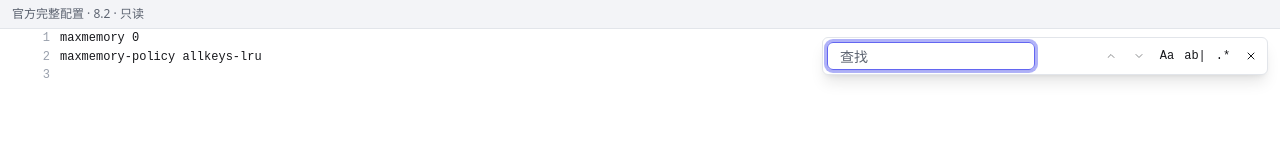
it: 关闭后焦点落到右栏滚动容器
Expected: the search field named "在官方配置中查找" is shown, [827,42,1035,70]
Click the button named "关闭查找": point(1251, 56) [1239,44,1263,68]
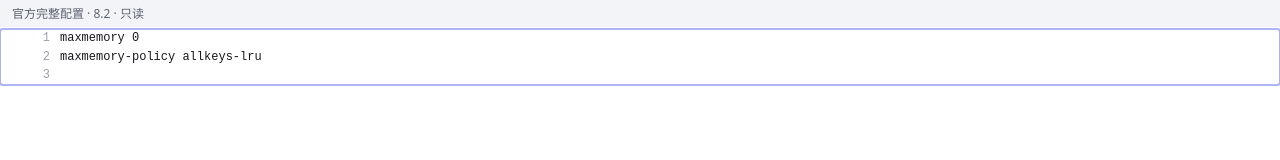
Now the search field labelled "在官方配置中查找" is gone
